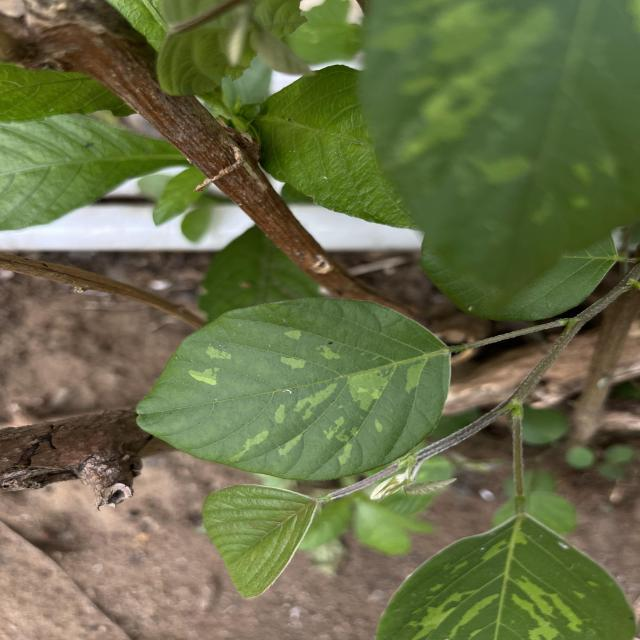Desmodium gangeticum: (131, 293, 456, 483)
